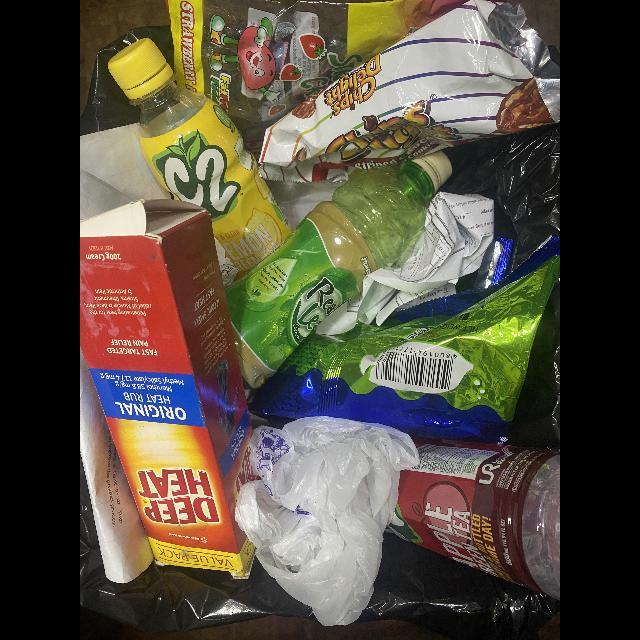cardboard: (80, 198, 261, 579)
food_wrapper: (250, 235, 559, 444), (257, 0, 559, 182), (167, 0, 458, 164)
paper: (314, 190, 494, 335)
plastic_bag: (234, 417, 420, 626)
plastic_bottle: (228, 149, 454, 400), (106, 37, 291, 290), (387, 440, 560, 605)
